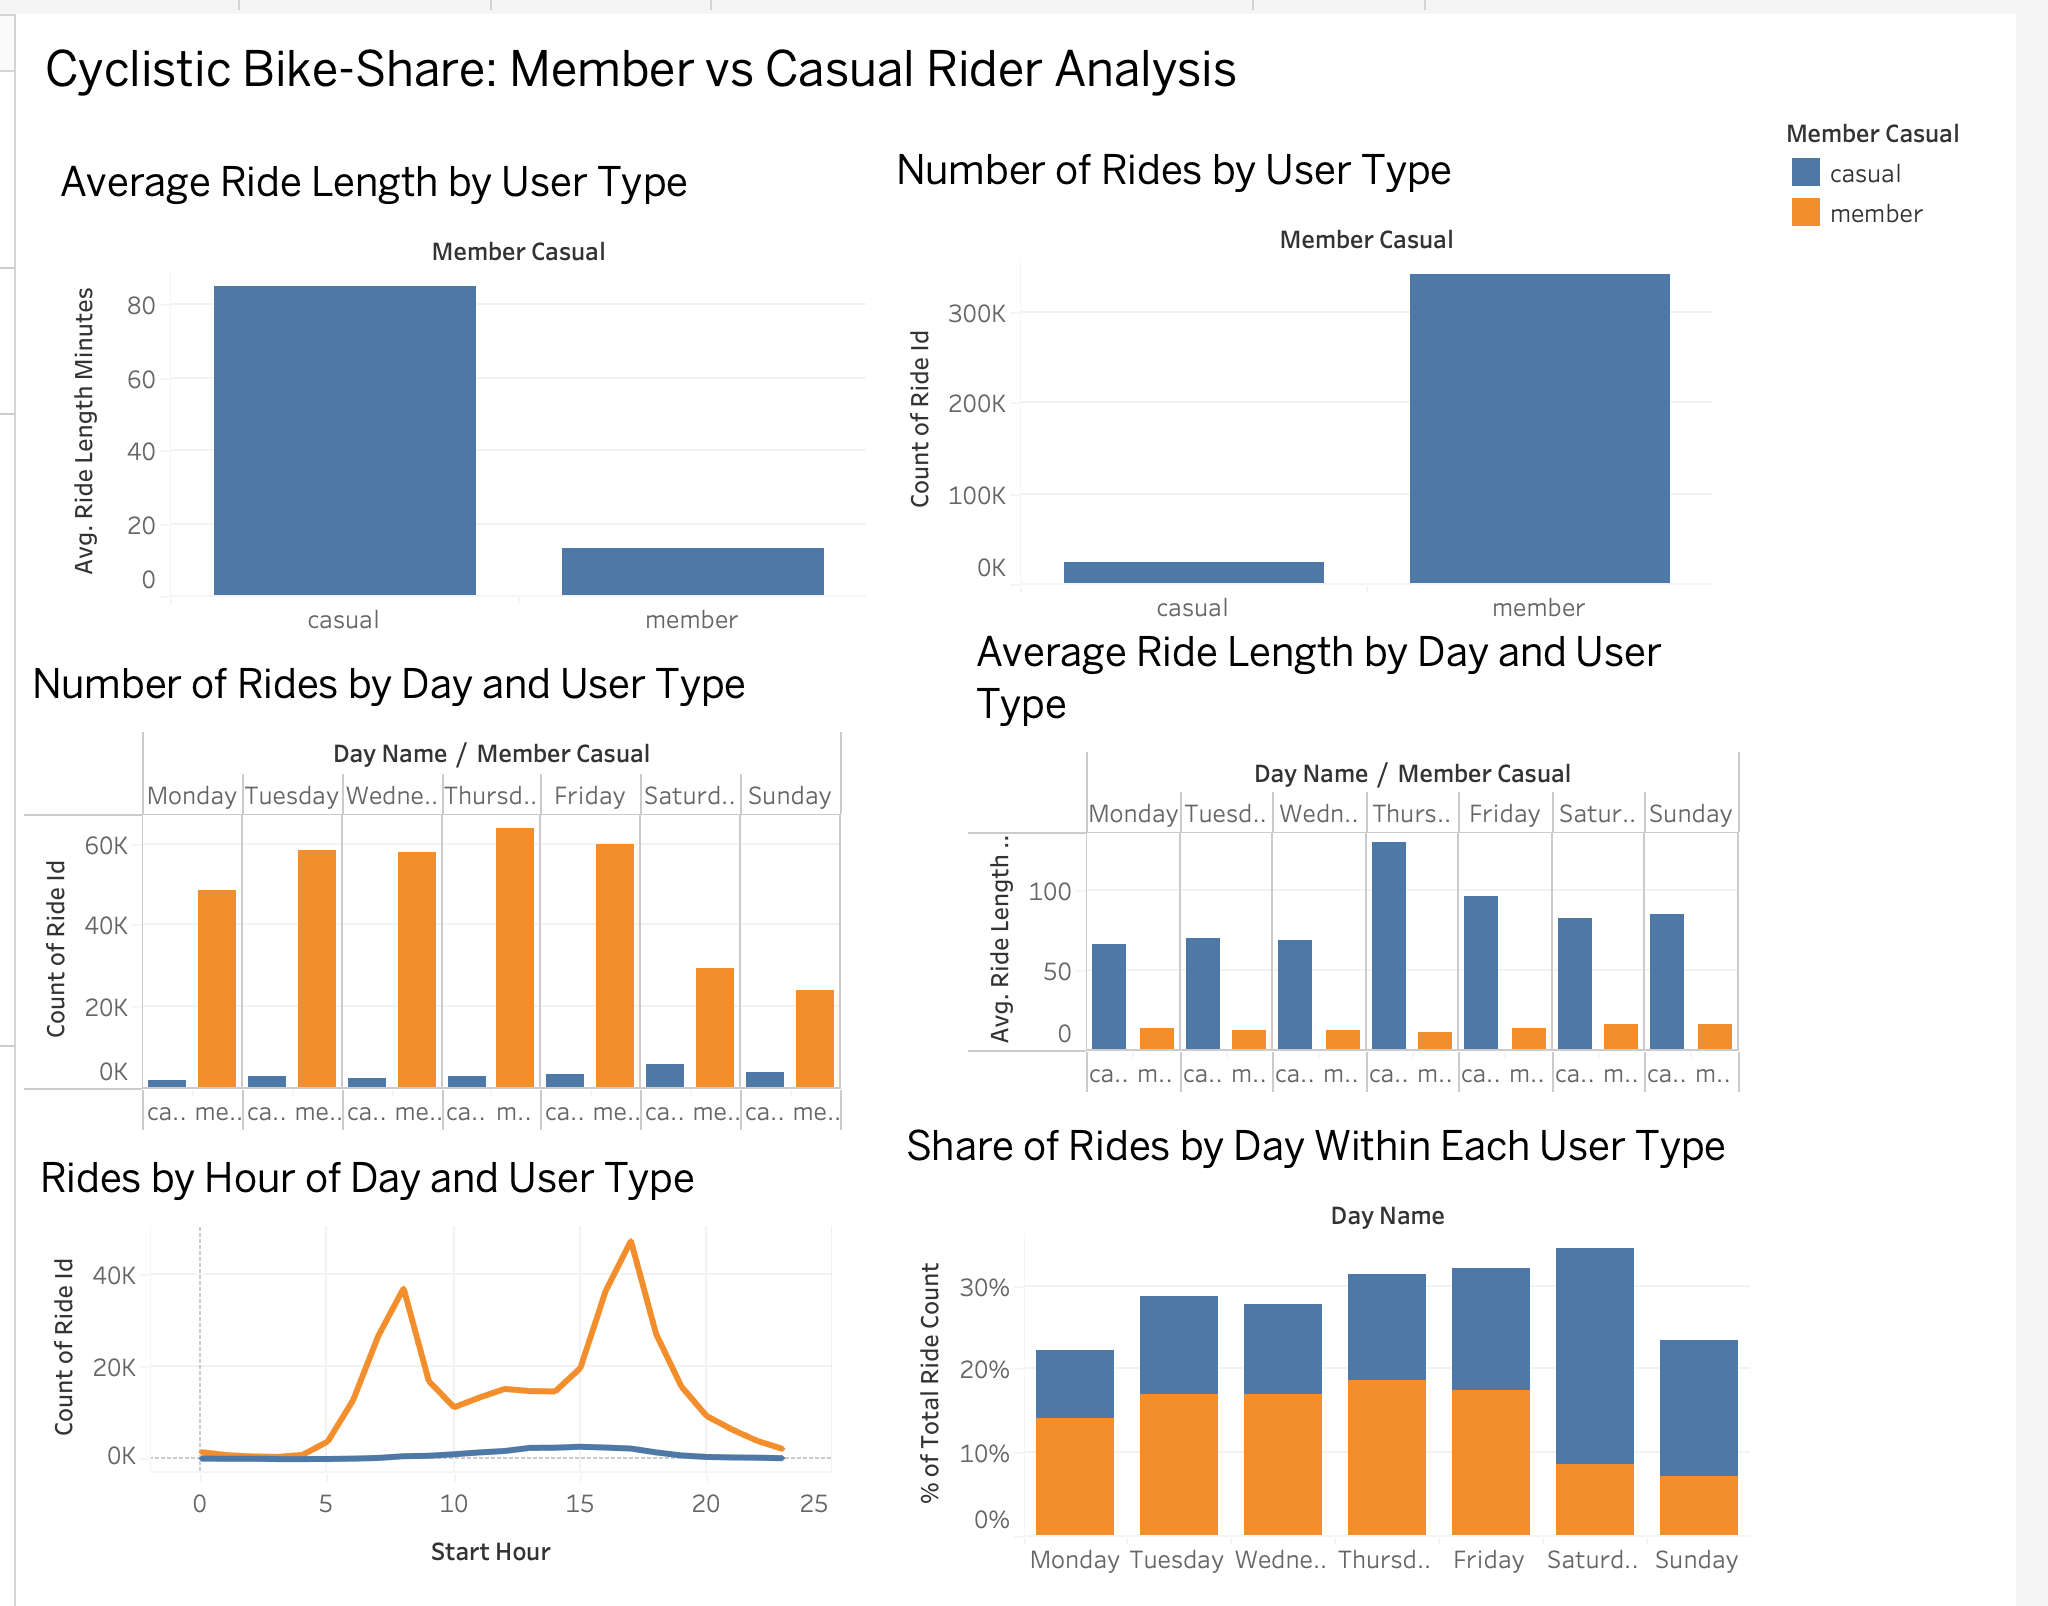

This screenshot's page, from the dashboard's own definition file:
{"tool":"tableau","page":{"name":"Dashboard 1","canvas":[1000,800],"ordinal":0},"visuals":[{"type":"title","box":[8,8,984,39]},{"type":"legend","title":"Sheet 3","param":"[federated.0ise23k17903ur1ebkqr11vh6upa].[none:member_casual:nk]","box":[881,47,111,66]},{"type":"worksheet","title":"Sheet 2","mark":"Automatic","rows":["ride_id"],"cols":["member_casual"],"box":[436,61,412,245]},{"type":"worksheet","title":"Sheet 1","mark":"Automatic","rows":["ride_length_minutes"],"cols":["member_casual"],"box":[18,67,407,245]},{"type":"worksheet","title":"Sheet 4","mark":"Automatic","rows":["ride_length_minutes"],"cols":["Calculation_0575984472137728","member_casual"],"box":[476,302,386,238]},{"type":"worksheet","title":"Sheet 3","mark":"Bar","rows":["ride_id"],"cols":["Calculation_0575984472137728","member_casual"],"box":[4,318,409,241]},{"type":"worksheet","title":"Sheet 6","mark":"Automatic","cols":["Calculation_0575984472137728"],"box":[441,549,426,233]},{"type":"worksheet","title":"Sheet 5","mark":"Line","rows":["ride_id"],"cols":["start_hour"],"box":[8,565,400,219]}]}

Visuals, with their boxes in screenshot pixels (x1, y1, x2, y2), scaled from the page's 1000x800 canvas onto the 2048x1606 screenshot:
title: <bbox>16, 16, 2032, 94</bbox>
"Sheet 3" legend: <bbox>1804, 94, 2032, 227</bbox>
"Sheet 2" worksheet: <bbox>893, 122, 1737, 614</bbox>
"Sheet 1" worksheet: <bbox>37, 135, 870, 626</bbox>
"Sheet 4" worksheet: <bbox>975, 606, 1765, 1084</bbox>
"Sheet 3" worksheet (Bar marks): <bbox>8, 638, 846, 1122</bbox>
"Sheet 6" worksheet: <bbox>903, 1102, 1776, 1570</bbox>
"Sheet 5" worksheet (Line marks): <bbox>16, 1134, 836, 1574</bbox>
